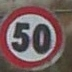limite 50: (0, 2, 64, 71)
